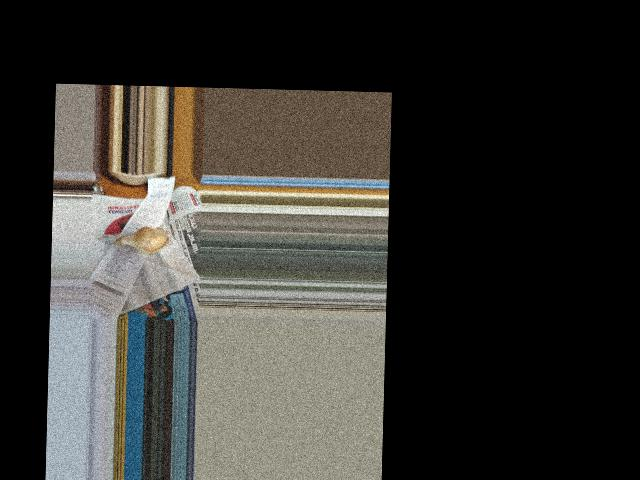onion: (121, 226, 166, 256)
